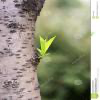Peach leaf: (44, 36, 57, 53), (39, 35, 45, 53)
